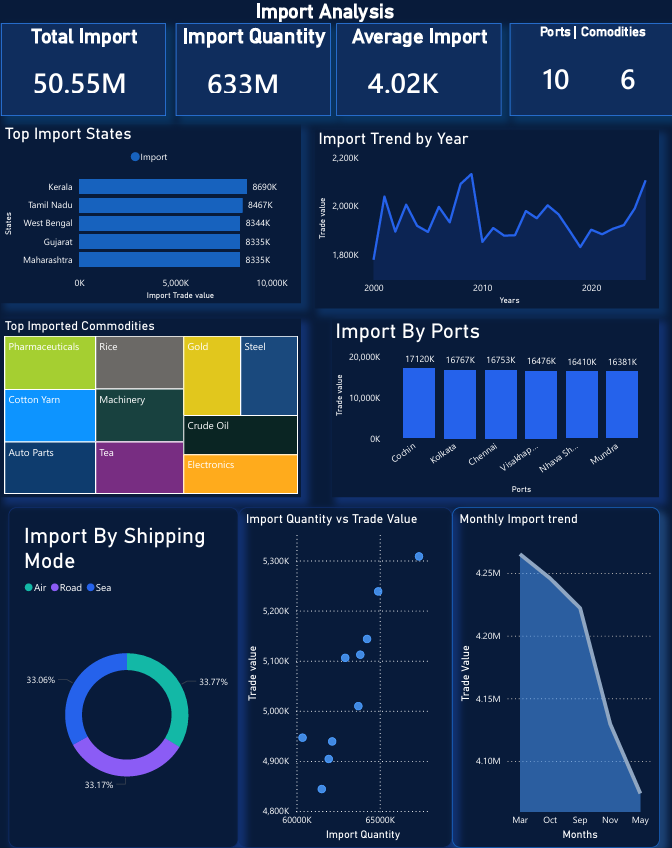

Layout of this report page (visuals, bound fields, positions):
{"tool":"powerbi","page":{"name":"Page 2","canvas":[902,1140],"ordinal":1},"visuals":[{"type":"cardVisual","title":"Total Import","fields":{"Data":["india_trade_analysis_country_india_2000_2025.Total Import"]},"box":[0,31.9,221.2,123.9],"z":0},{"type":"shape","title":"Import Analysis","box":[0,0,867,31.9],"z":1000},{"type":"cardVisual","title":"Import Quantity","fields":{"Data":["india_trade_analysis_country_india_2000_2025.Import Quantity"]},"box":[233.6,31.9,208.8,124],"z":2000},{"type":"cardVisual","title":"Ports | Comodities","fields":{"Data":["india_trade_analysis_country_india_2000_2025.Imported Commodity","india_trade_analysis_country_india_2000_2025.Import Ports"]},"box":[681,32,221,124],"z":3000},{"type":"cardVisual","title":"Average Import","fields":{"Data":["india_trade_analysis_country_india_2000_2025.Average Import"]},"box":[449,32,221,124],"z":4000},{"type":"clusteredBarChart","title":"Top Import States","fields":{"Category":["india_trade_analysis_country_india_2000_2025.State"],"Y":["Sum(india_trade_analysis_country_india_2000_2025.Trade_Value_USD_Mn)"],"Series":["india_trade_analysis_country_india_2000_2025.Trade_Type"]},"box":[0,167,402,240],"z":5000},{"type":"treemap","title":"Top Imported Commodities","fields":{"Group":["india_trade_analysis_country_india_2000_2025.Commodity"],"Values":["Sum(india_trade_analysis_country_india_2000_2025.Trade_Value_USD_Mn)"]},"box":[0,427,402,240],"z":6000},{"type":"stackedAreaChart","title":"Import Trend by Year","fields":{"Category":["india_trade_analysis_country_india_2000_2025.Year"],"Y":["Sum(india_trade_analysis_country_india_2000_2025.Trade_Value_USD_Mn)"]},"box":[420,174,461,240],"z":7000},{"type":"clusteredColumnChart","title":"Import By Ports","fields":{"Category":["india_trade_analysis_country_india_2000_2025.Indian_Port"],"Y":["Sum(india_trade_analysis_country_india_2000_2025.Trade_Value_USD_Mn)"]},"box":[443,427,438,240],"z":8000},{"type":"donutChart","title":"Import By Shipping Mode","fields":{"Category":["india_trade_analysis_country_india_2000_2025.Shipping_Mode"],"Y":["Sum(india_trade_analysis_country_india_2000_2025.Trade_Value_USD_Mn)"]},"box":[10,680,308,456],"z":9000},{"type":"scatterChart","title":"Import Quantity vs Trade Value","fields":{"X":["Sum(india_trade_analysis_country_india_2000_2025.Quantity)"],"Y":["Sum(india_trade_analysis_country_india_2000_2025.Trade_Value_USD_Mn)"],"Category":["india_trade_analysis_country_india_2000_2025.Commodity"]},"box":[318,680,286,456],"z":10000},{"type":"lineChart","title":"Monthly Import trend","fields":{"Category":["india_trade_analysis_country_india_2000_2025.Month"],"Y":["Sum(india_trade_analysis_country_india_2000_2025.Trade_Value_USD_Mn)"]},"box":[604,680,278,456],"z":11000}]}

Visuals, with their boxes in screenshot pixels (x1, y1, x2, y2), scaled from the page's 902x1140 canvas onto the 672x848 screenshot:
"Total Import" cardVisual: (x1=0, y1=24, x2=165, y2=116)
"Import Analysis" shape: (x1=0, y1=0, x2=646, y2=24)
"Import Quantity" cardVisual: (x1=174, y1=24, x2=330, y2=116)
"Ports | Comodities" cardVisual: (x1=507, y1=24, x2=671, y2=116)
"Average Import" cardVisual: (x1=335, y1=24, x2=499, y2=116)
"Top Import States" clusteredBarChart: (x1=0, y1=124, x2=299, y2=303)
"Top Imported Commodities" treemap: (x1=0, y1=318, x2=299, y2=496)
"Import Trend by Year" stackedAreaChart: (x1=313, y1=129, x2=656, y2=308)
"Import By Ports" clusteredColumnChart: (x1=330, y1=318, x2=656, y2=496)
"Import By Shipping Mode" donutChart: (x1=7, y1=506, x2=237, y2=845)
"Import Quantity vs Trade Value" scatterChart: (x1=237, y1=506, x2=450, y2=845)
"Monthly Import trend" lineChart: (x1=450, y1=506, x2=657, y2=845)
